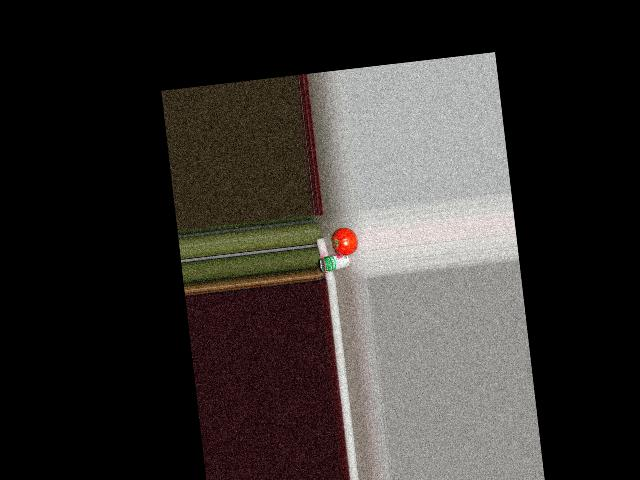tomato: (332, 226, 359, 256)
